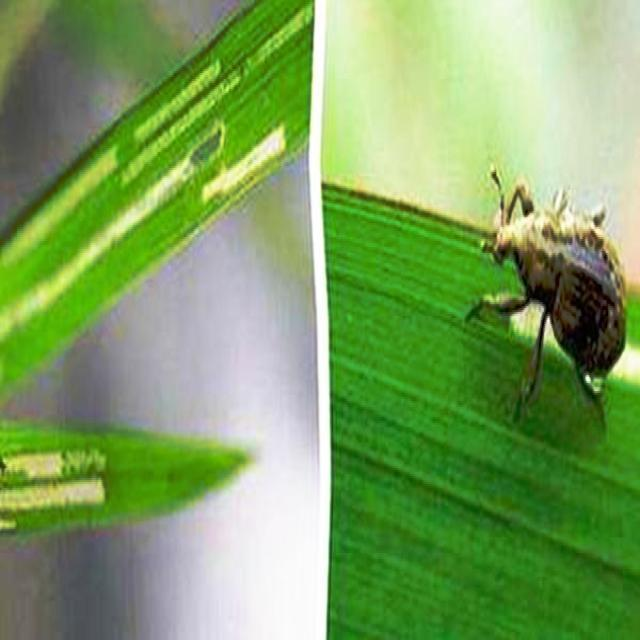rice-bug: (482, 187, 629, 396)
